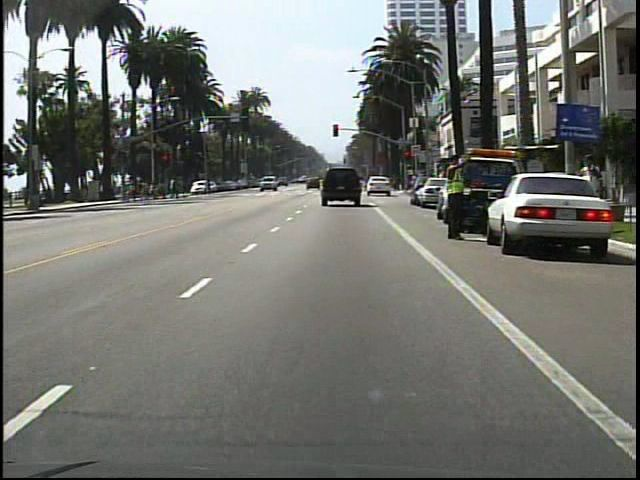person: (571, 147, 607, 240), (443, 148, 472, 244), (198, 175, 217, 203)
